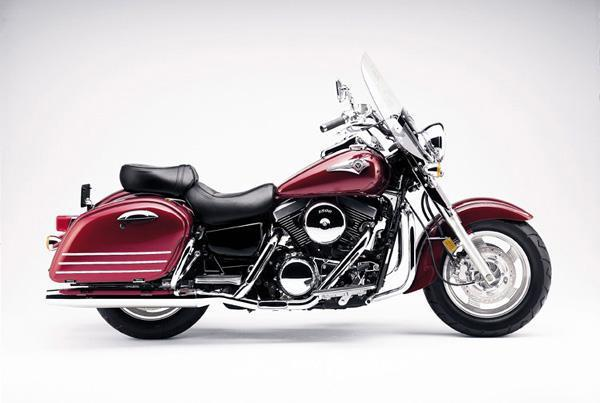motorcycle: (44, 48, 558, 343)
